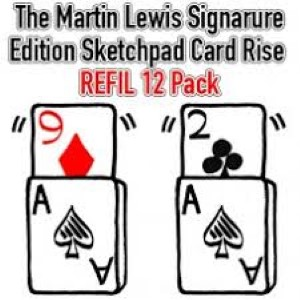AceOfSpades: (24, 175, 127, 297), (174, 174, 277, 296)
NineOfDiamonds: (28, 99, 120, 176)
